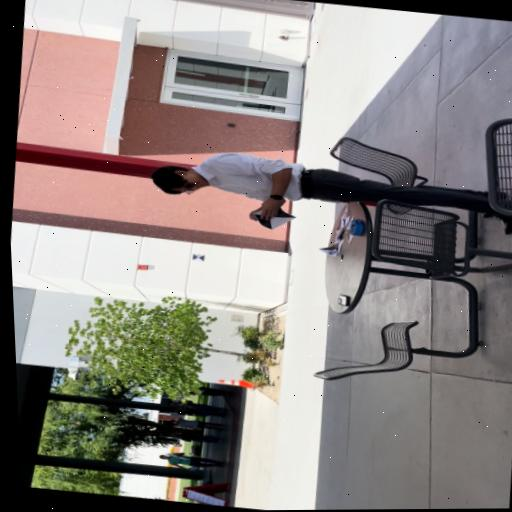target6: (192, 254, 206, 262)
